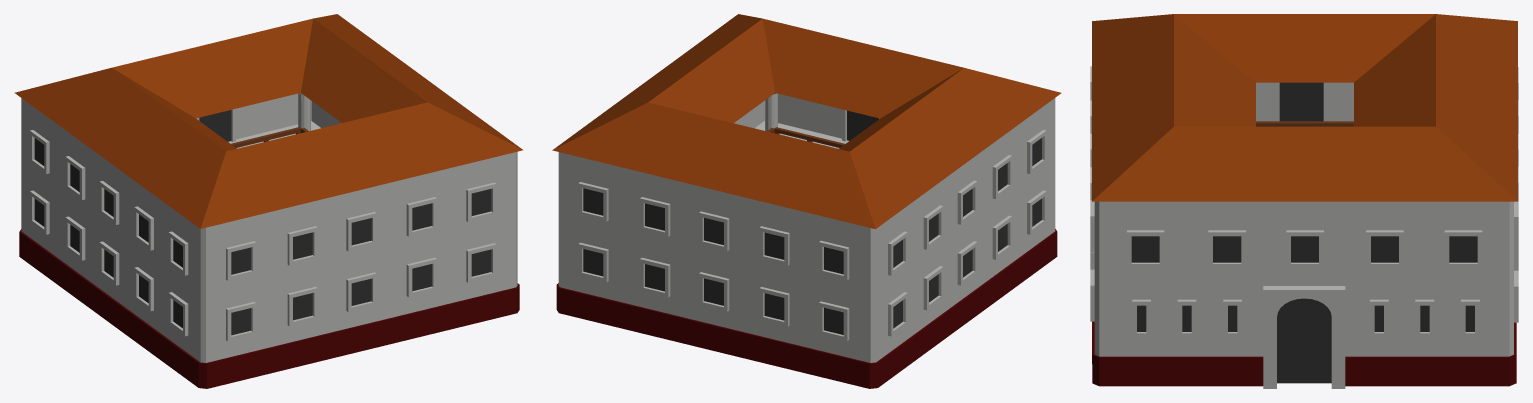
The model's file is Roman Building 4.fbx.
3 renders of one model, left to right at view 1: azimuth 30°, elevation 25°; view 2: azimuth 150°, elevation 25°; view 3: azimuth 270°, elevation 25°, orthographic. The views are drawn at different scales.
Visible parts, largest first — view 1: Roman Building 4; view 2: Roman Building 4; view 3: Roman Building 4.
Part boxes in pixels (left/top/right/bottom): Roman Building 4: left=14, top=14, right=523, bottom=388; Roman Building 4: left=552, top=14, right=1061, bottom=388; Roman Building 4: left=1090, top=14, right=1518, bottom=388.
Bounding box in the file's own units: 1899 × 1181 × 1878.
